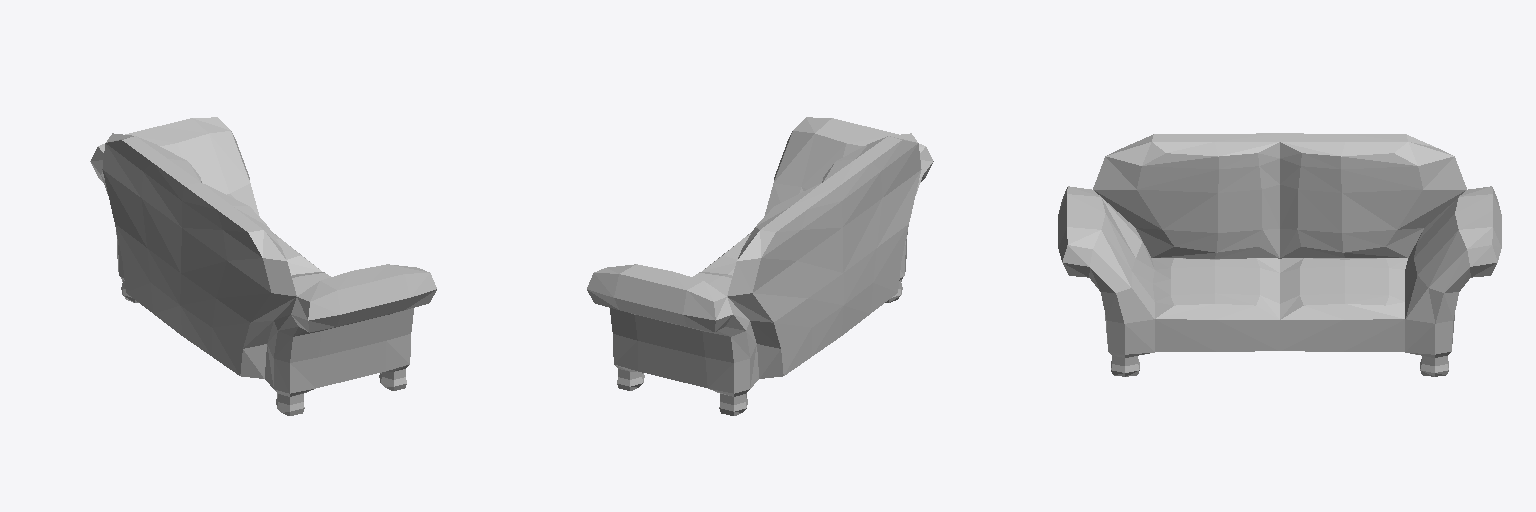
File: Sofa.obj
3 views of the same model, side by side, from view 1: azimuth 30°, elevation 25°; view 2: azimuth 150°, elevation 25°; view 3: azimuth 270°, elevation 25° (orthographic).
Visible parts, largest first — view 1: Cube; view 2: Cube; view 3: Cube.
Part boxes in pixels (x1,y1,x2,y2): Cube: (90, 117, 436, 415); Cube: (587, 117, 933, 415); Cube: (1058, 133, 1501, 376).
Bounding box in the file's own units: 2.43 × 2.69 × 6.16.